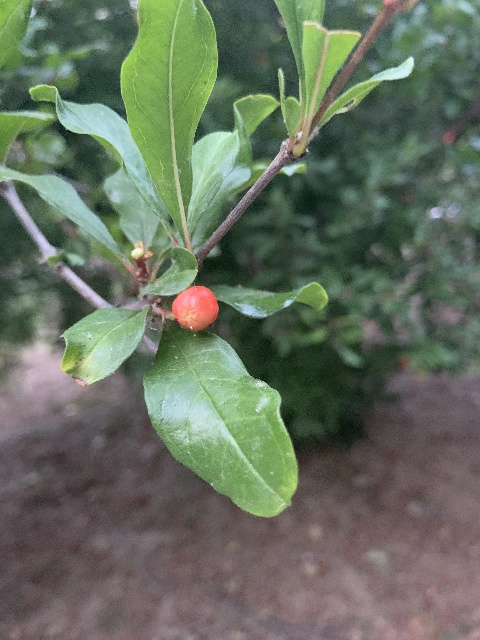bud: (172, 284, 218, 331)
